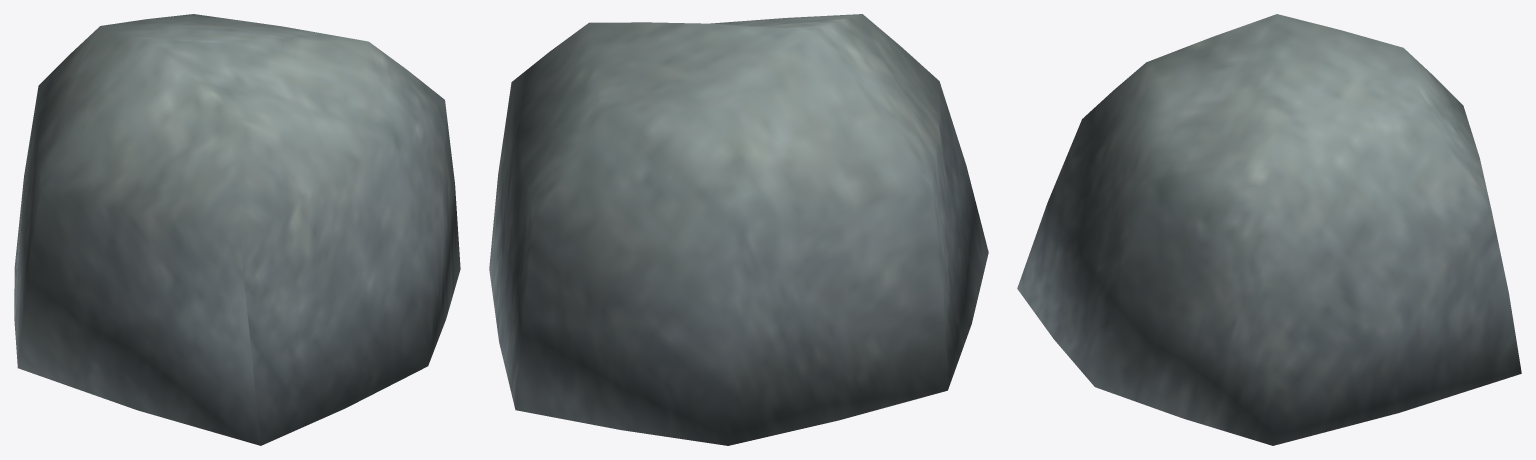
The model's file is rocks_015.fbx.
3 renders of one model, left to right at view 1: azimuth 30°, elevation 25°; view 2: azimuth 150°, elevation 25°; view 3: azimuth 270°, elevation 25°, orthographic. The views are drawn at different scales.
Visible parts, largest first — view 1: rocks.015; view 2: rocks.015; view 3: rocks.015.
Part boxes in pixels (bbox=[...]): rocks.015: bbox=[14, 14, 460, 445]; rocks.015: bbox=[489, 14, 988, 445]; rocks.015: bbox=[1017, 14, 1521, 445].
Size of the model in its own units: 62.73 by 42.58 by 64.91.
